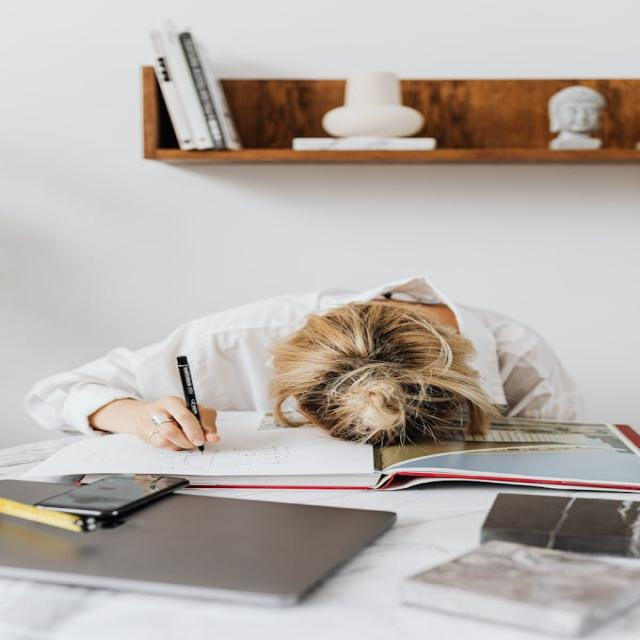pen: (156, 345, 236, 459)
